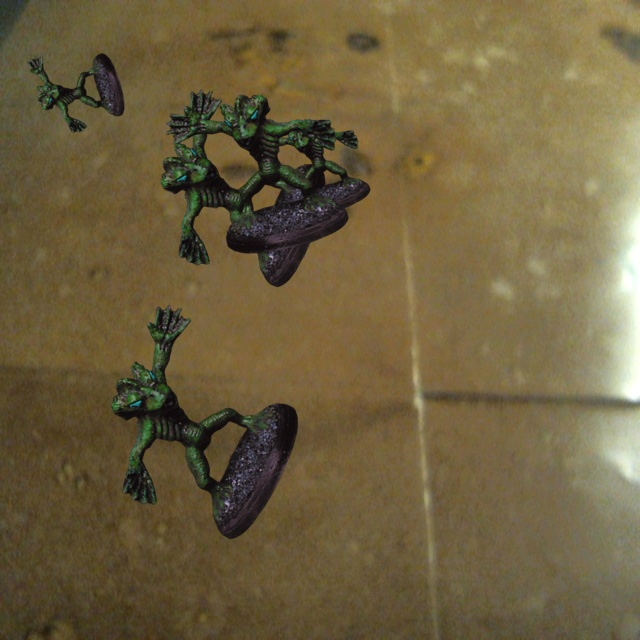pieza_juego: (111, 305, 297, 538), (160, 89, 325, 286), (166, 94, 348, 253), (253, 119, 370, 216), (27, 53, 124, 132)
